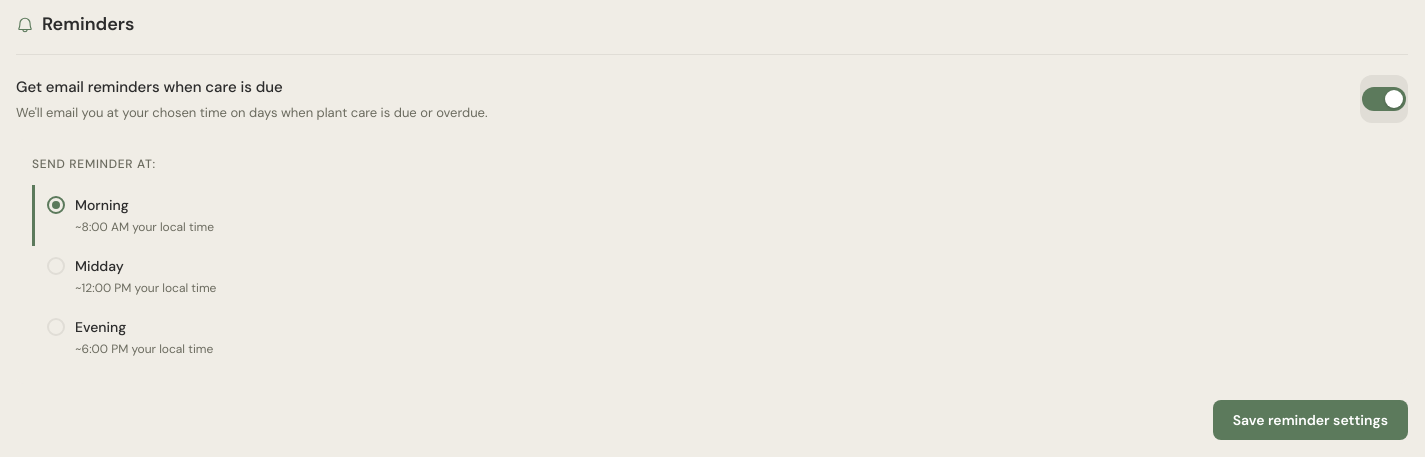
RemindersSection › shows "Save changes" label when toggling off from on state
Note: Toggle off
Click the switch named "Email reminders": [1384, 99] box [1360, 75, 1408, 123]
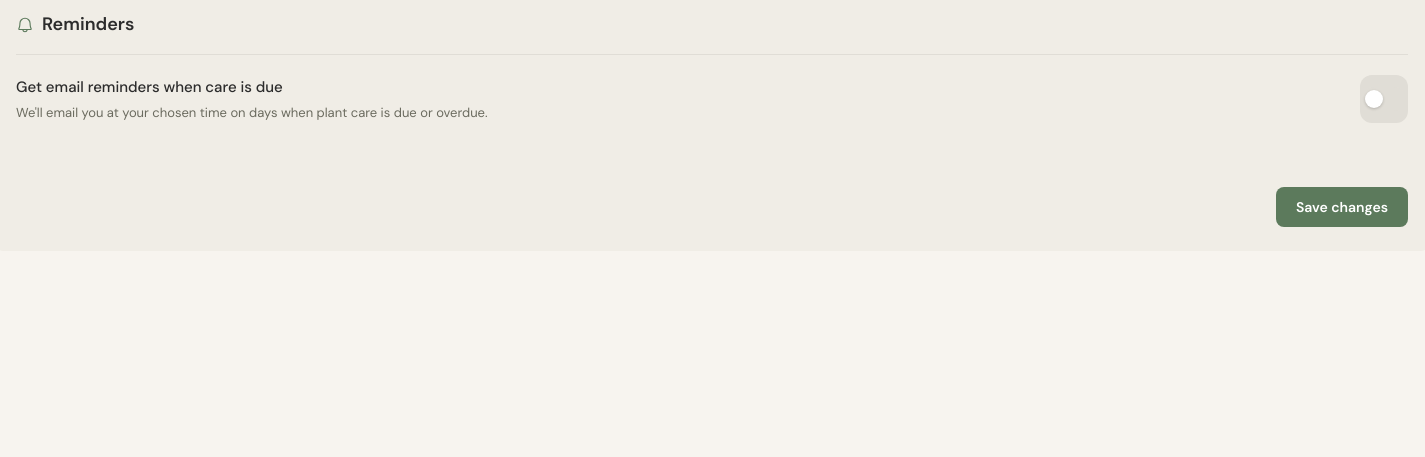
Check: the button "Save changes" is shown, box [1276, 187, 1408, 227]
